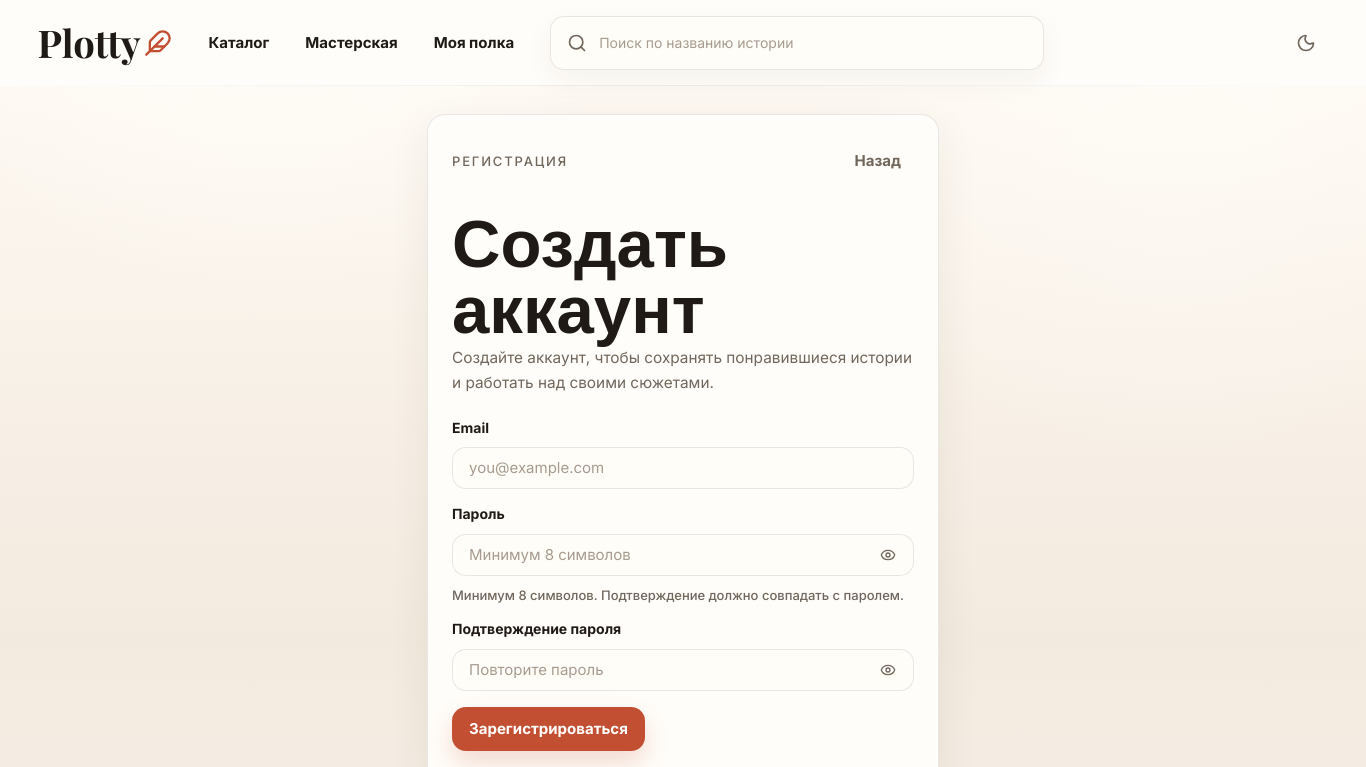
Test: AuthScreen › validates register password before submitting to the backend
The width and height of the screenshot is (1366, 767).
Expected: the heading "Создать аккаунт" is shown, [452,194,728,350]
Type "writer@plotty.test" into the field labelled "Email" at (683, 468), box [452,447,914,489]
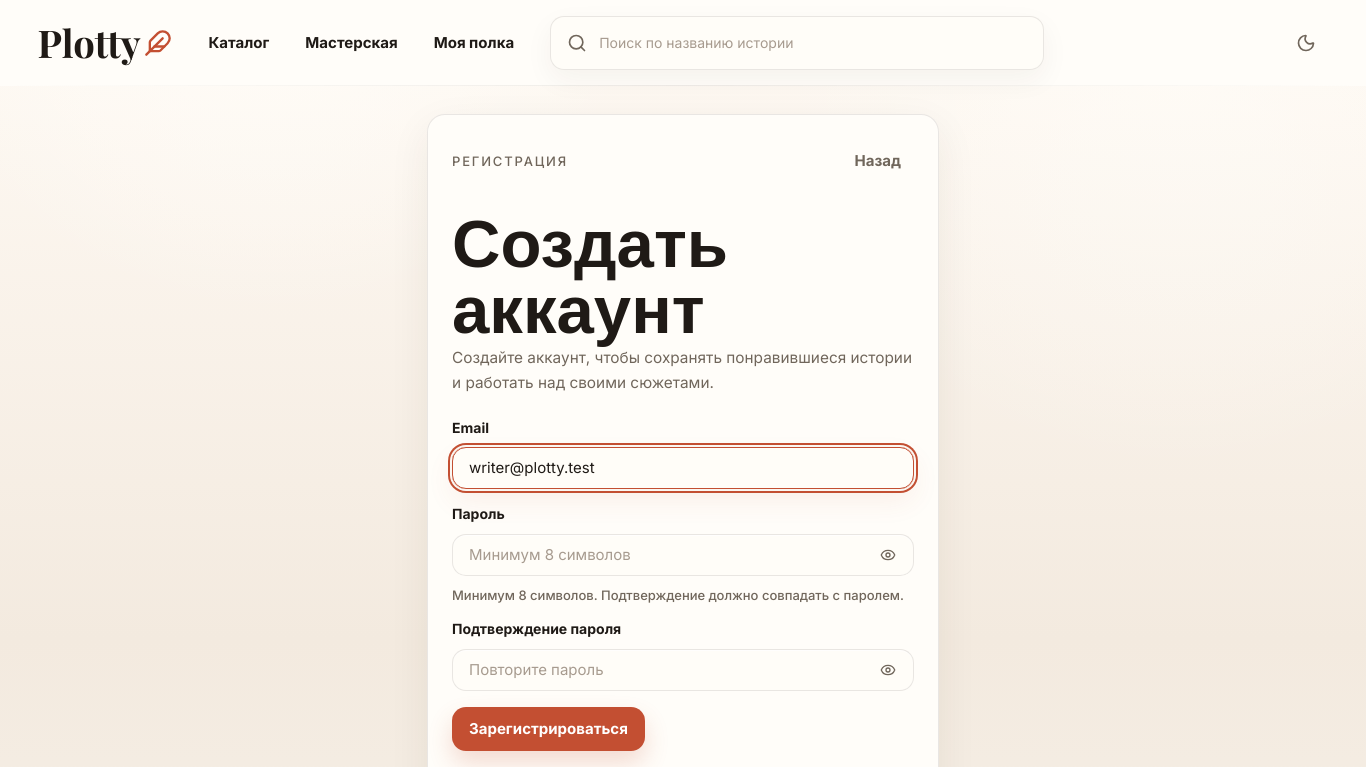
Type "short" into the password field labelled "Пароль" at (683, 555), box [452,534,914,576]
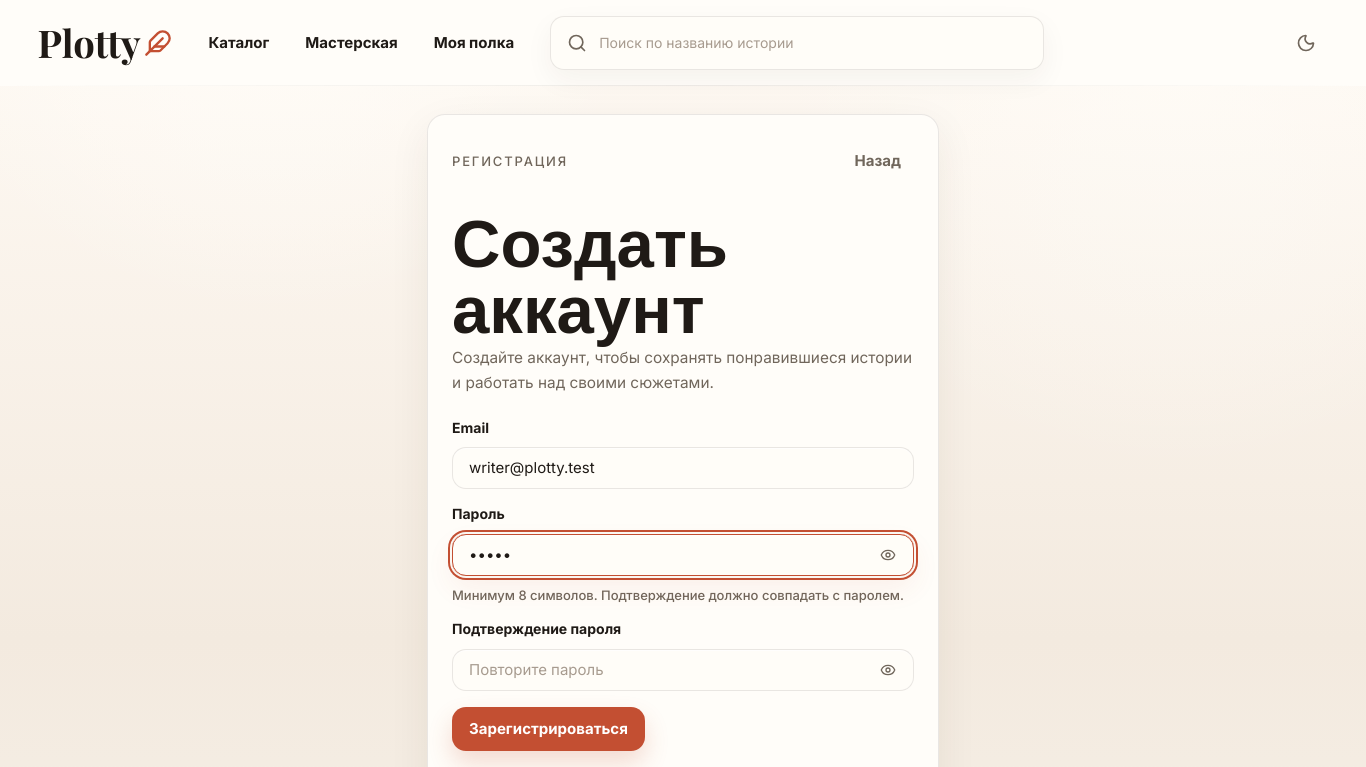
Type "different" into the password field labelled "Подтверждение пароля" at (683, 670), box [452,649,914,691]
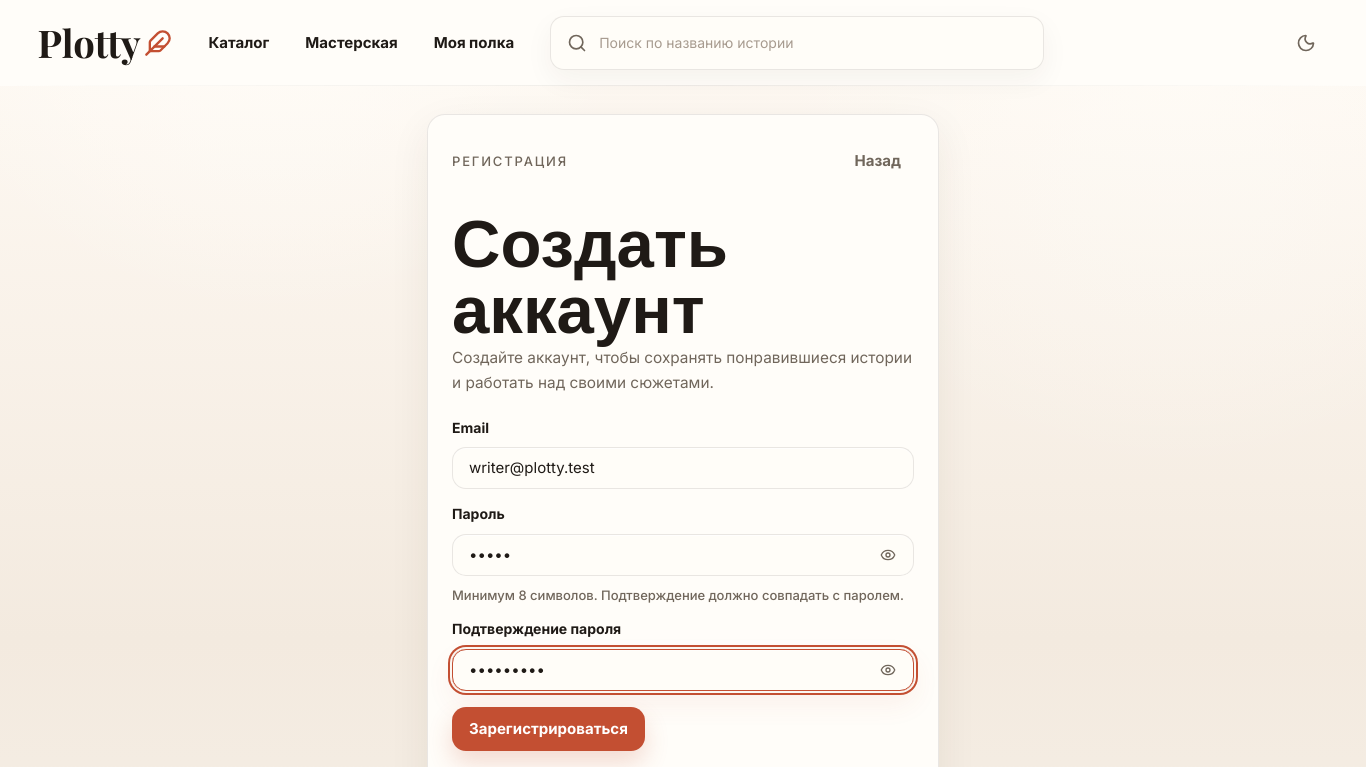
Click the button "Зарегистрироваться" at (548, 729), box [452,707,645,751]
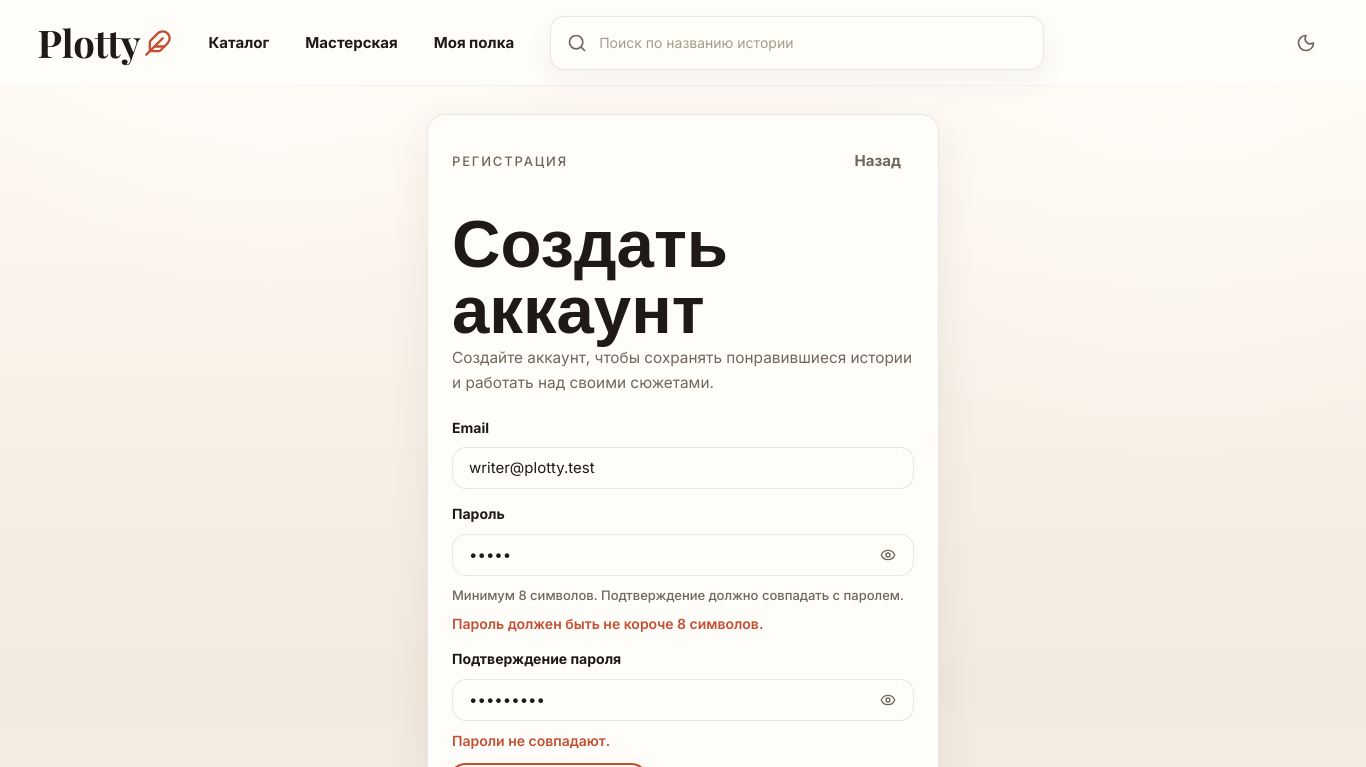
Expected: the text "Пароль должен быть не короче 8 символов." is shown, [452,616,763,632]
Expected: the text "Пароли не совпадают." is shown, [452,732,610,749]
